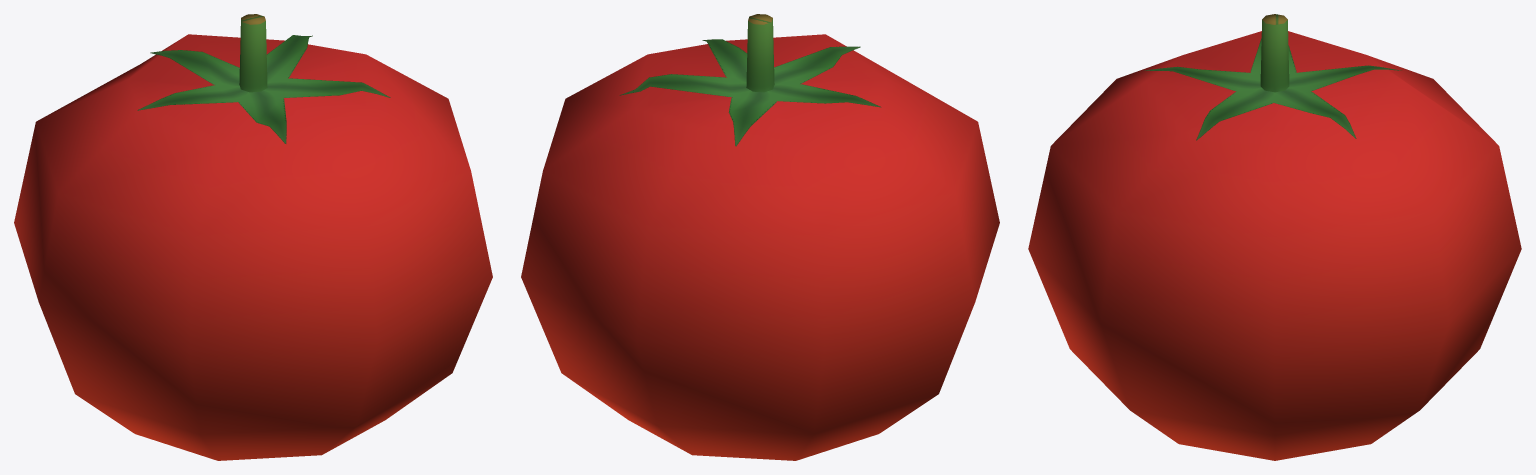
File: 001-Tomato.FBX
3 renders of one model, left to right at view 1: azimuth 30°, elevation 25°; view 2: azimuth 150°, elevation 25°; view 3: azimuth 270°, elevation 25°, orthographic.
Parts seen in each view (by area): view 1: 001-Tomato; view 2: 001-Tomato; view 3: 001-Tomato.
Boxes of the visible parts, box(x1,y1,x2,y2) form: 001-Tomato: box(14, 14, 492, 460); 001-Tomato: box(521, 14, 999, 460); 001-Tomato: box(1028, 14, 1521, 460).
Size of the model in its own units: 9.24 by 8.16 by 9.24.
